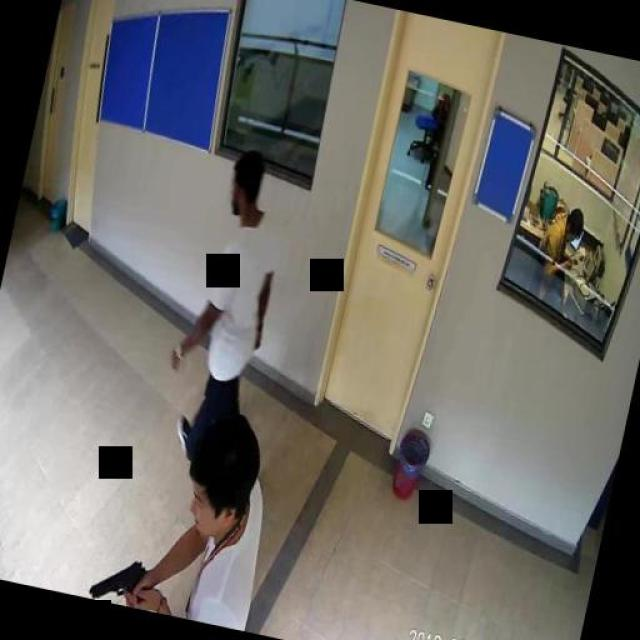gun: (86, 551, 152, 609)
